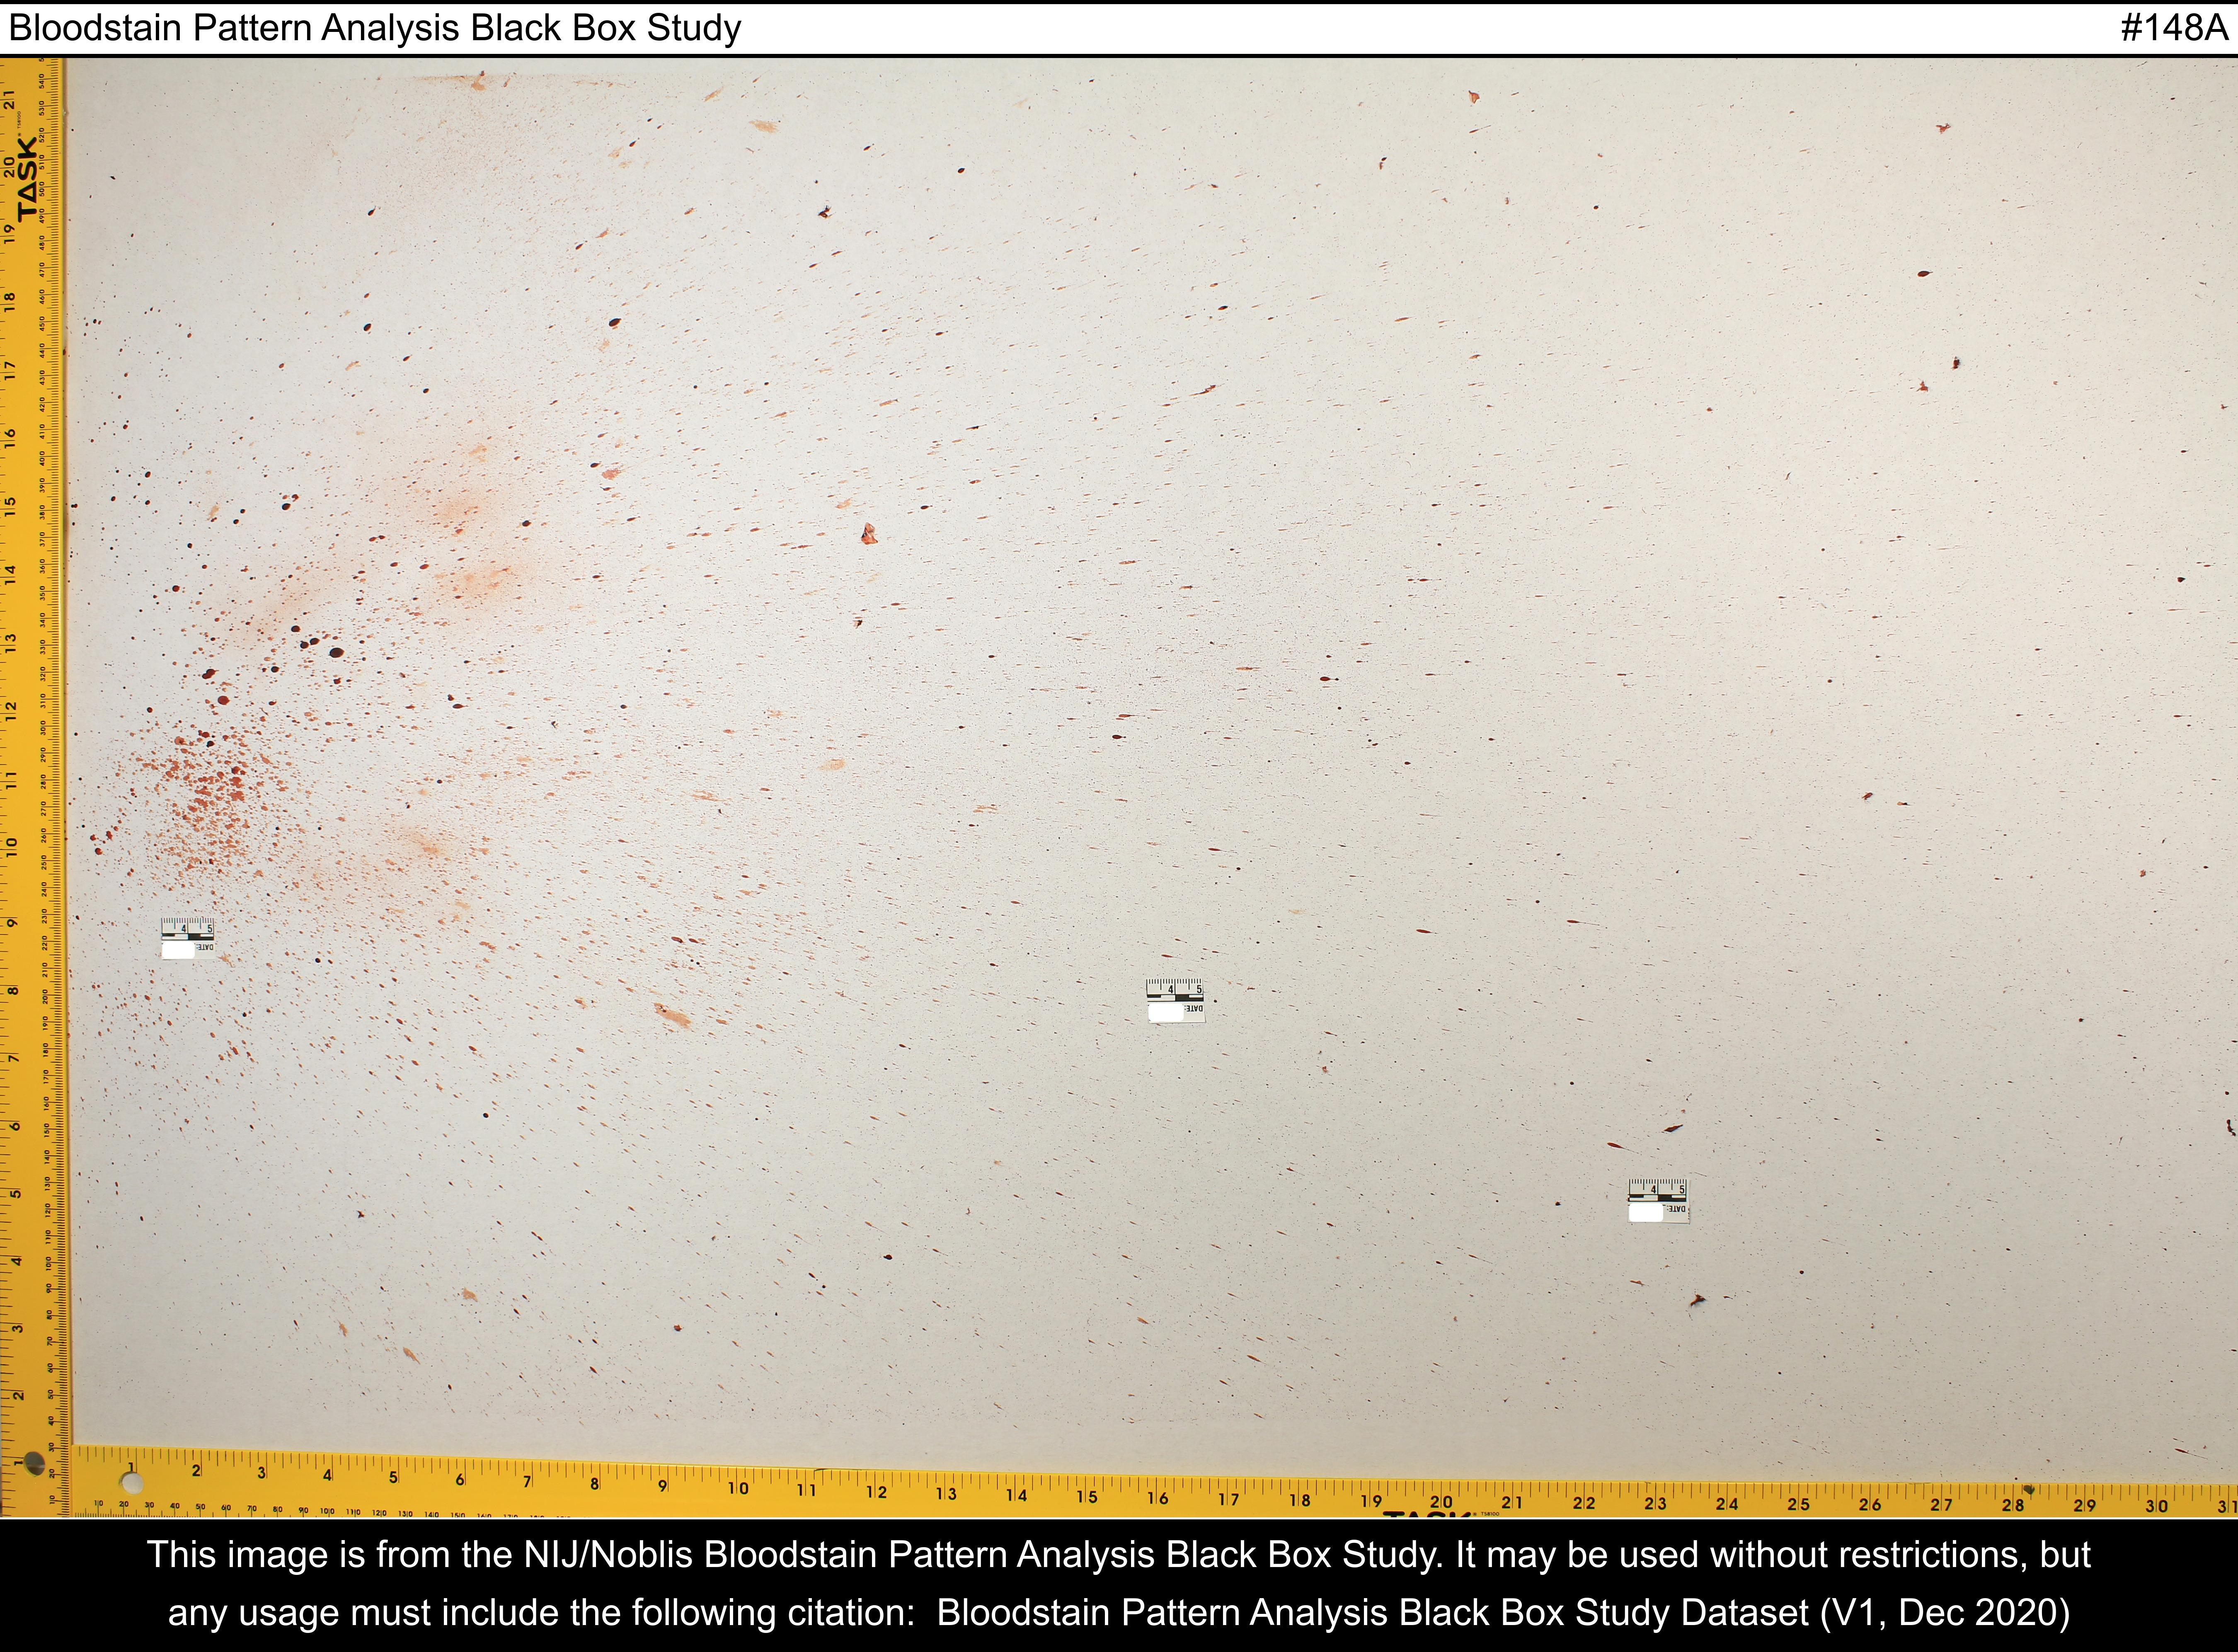Impact: (17, 90, 1279, 1263)
